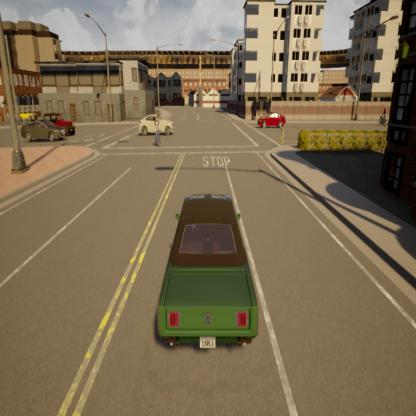Cars: (150, 183, 267, 368), (21, 119, 68, 145), (134, 113, 176, 140), (42, 110, 76, 138), (257, 106, 286, 130), (18, 110, 38, 124)
Pedestrian: (277, 121, 287, 151)
